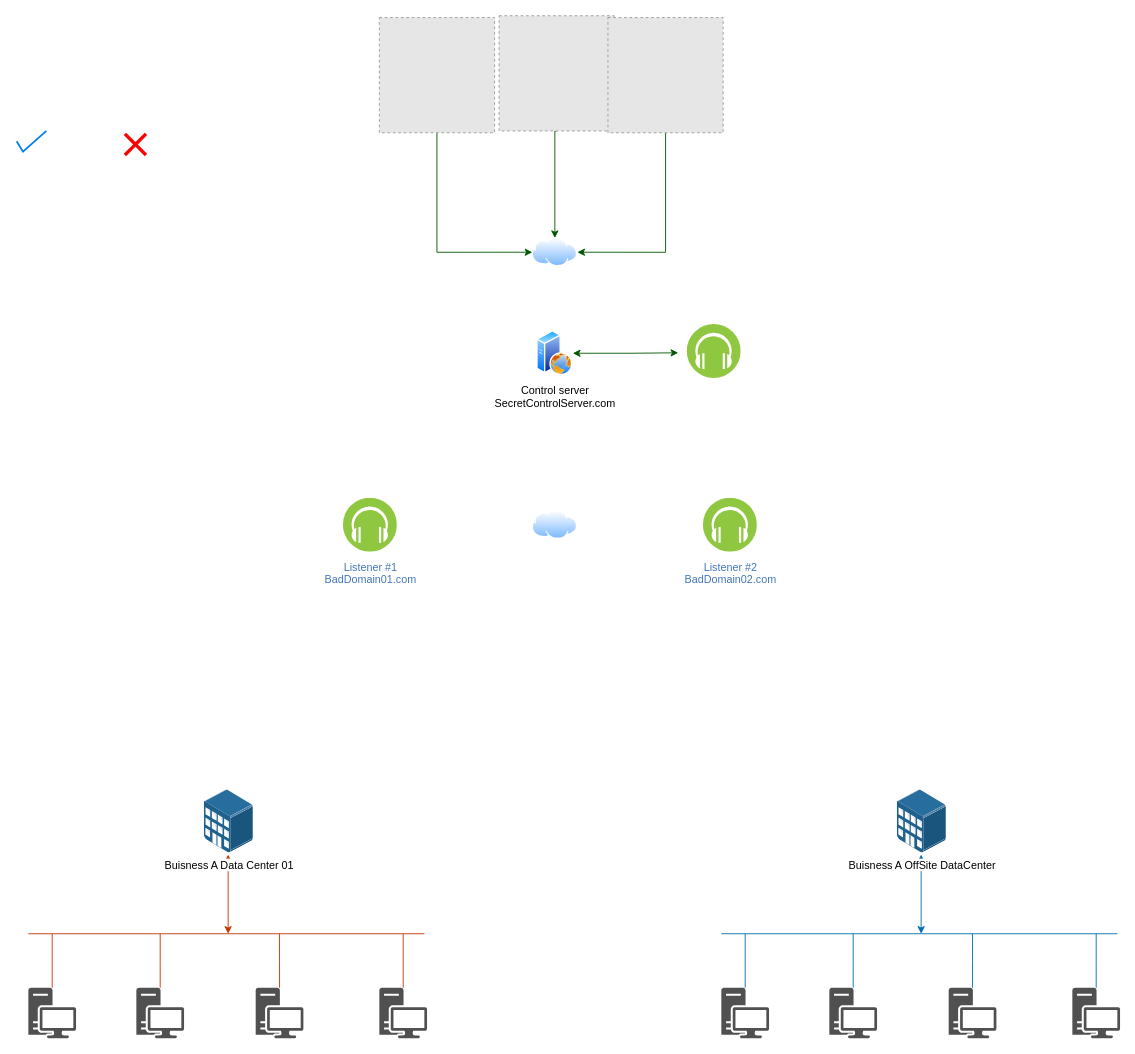
The diagram is 1135 pixels wide and 1054 high, and some of its shapes have lost their labels. Grey dashed boxes stand in for pictures. Each missing label, with the centre of its shape:
"Internet" goes at [554,524].
"Listener #3 (local) BadDomain03.com" goes at [714,351].
